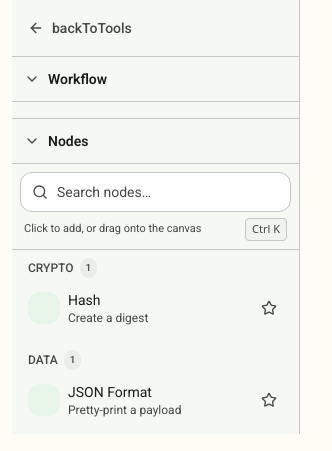
Test: NodePalette › searches node metadata with Hash
The image size is (332, 451).
Step 1. Type "Hash" into the search field labelled "Search nodes…" → (156, 192), box [20,172,291,212]
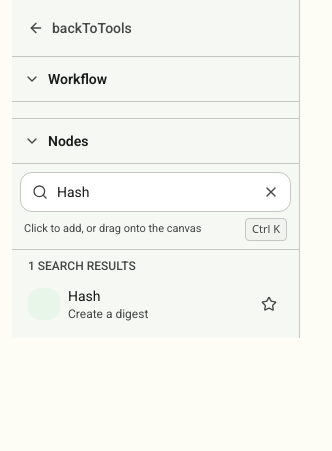
Expected: the number of buttons named "Add node:" is 1, [20,278,247,330]
